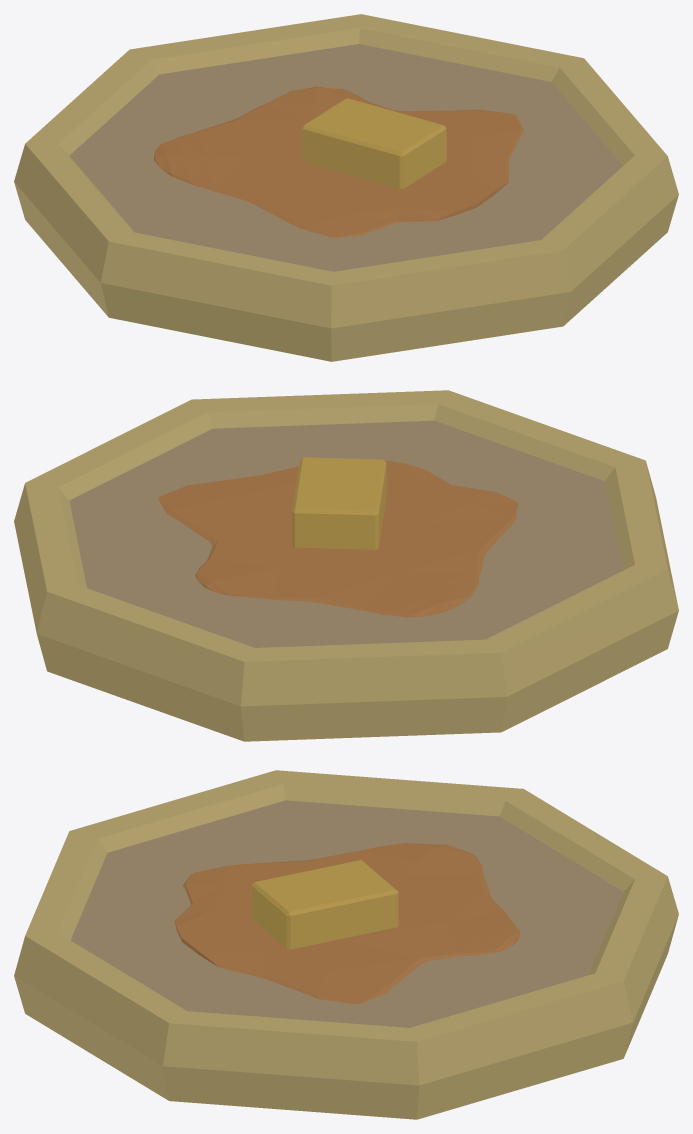
The model's file is Pancake.glb.
The picture shows the model from 3 angles, top to bottom: view 1: azimuth 30°, elevation 25°; view 2: azimuth 150°, elevation 25°; view 3: azimuth 270°, elevation 25°; orthographic projection. The views are drawn at different scales.
Visible parts, largest first — view 1: Pancake; view 2: Pancake; view 3: Pancake.
Boxes of the visible parts, x1=… form: Pancake: x1=14, y1=14, x2=678, y2=361; Pancake: x1=14, y1=390, x2=678, y2=741; Pancake: x1=14, y1=770, x2=678, y2=1119.
Bounding box in the file's own units: 1.44 × 0.2553 × 1.44.
